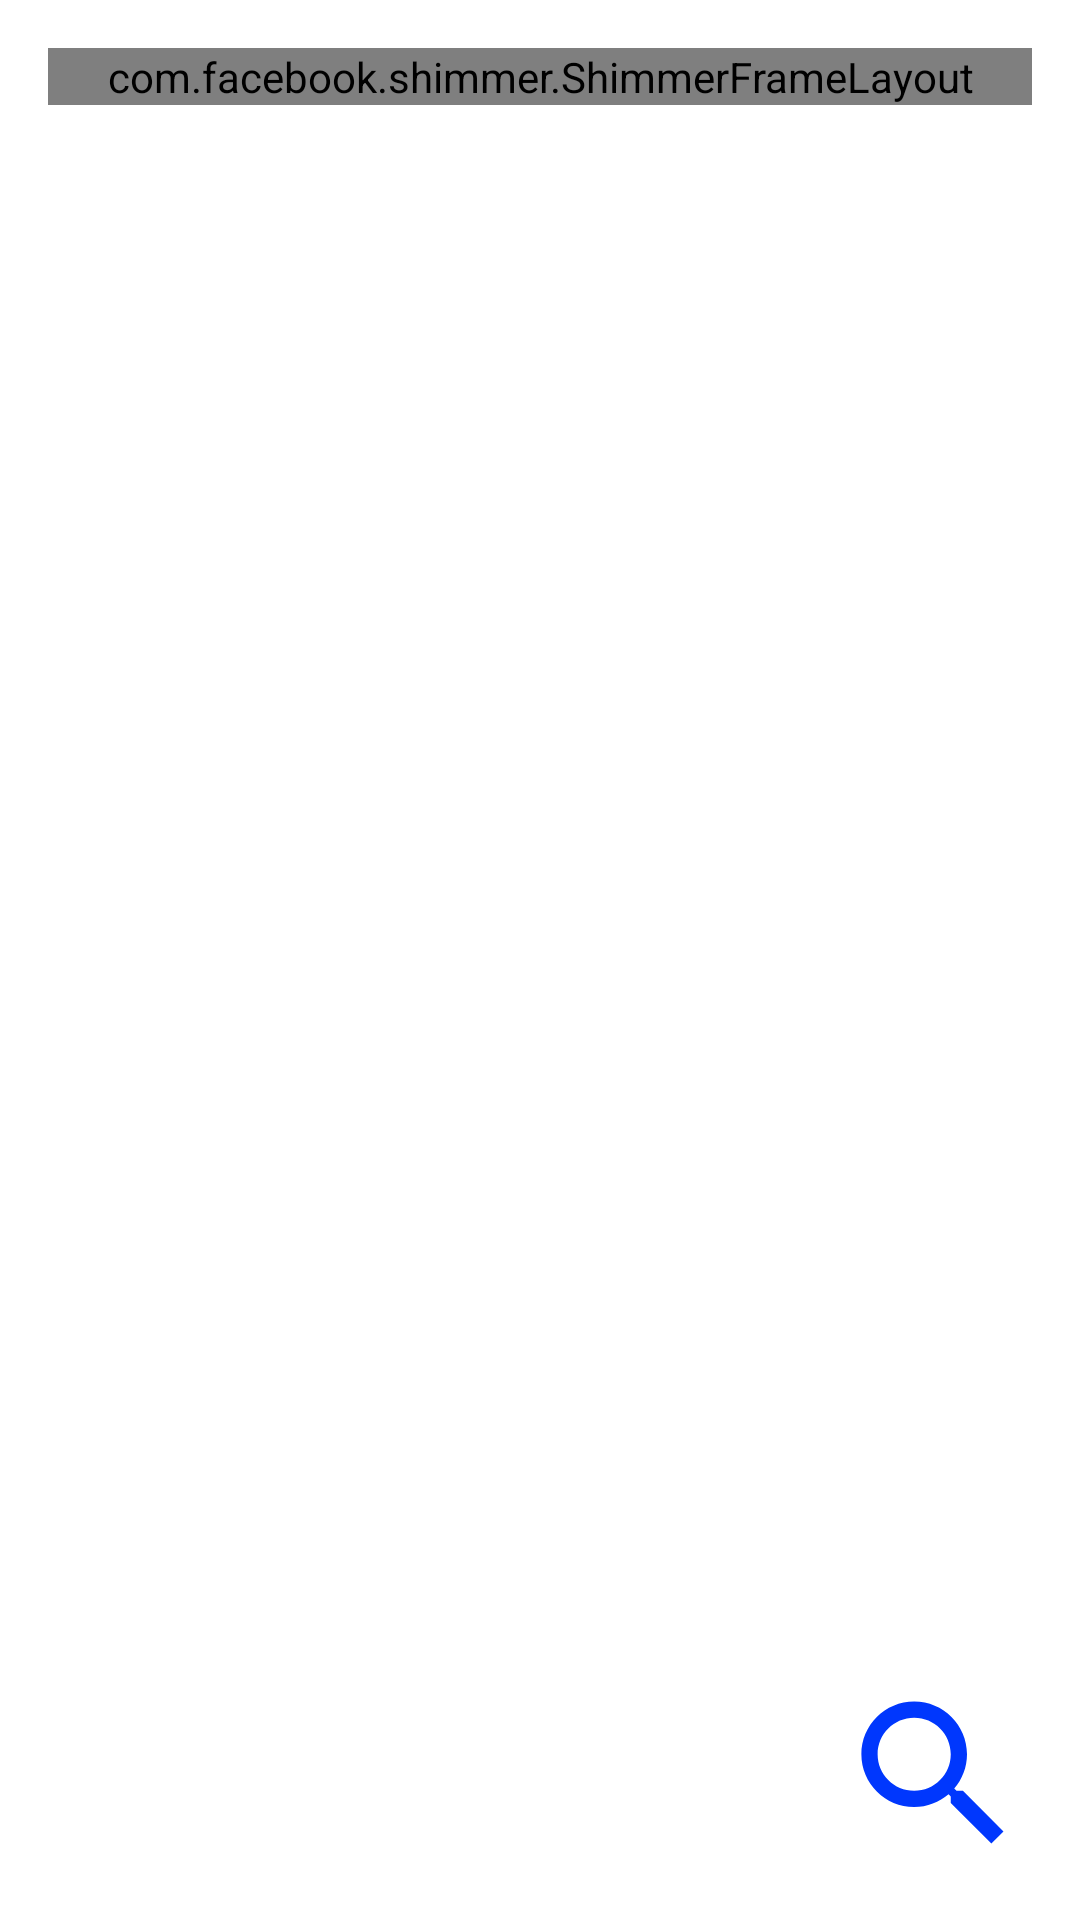

Screen size 1080 × 1920. Icon name, then its center in pixels as (x=x, y=y):
search: (x=932, y=1772)
